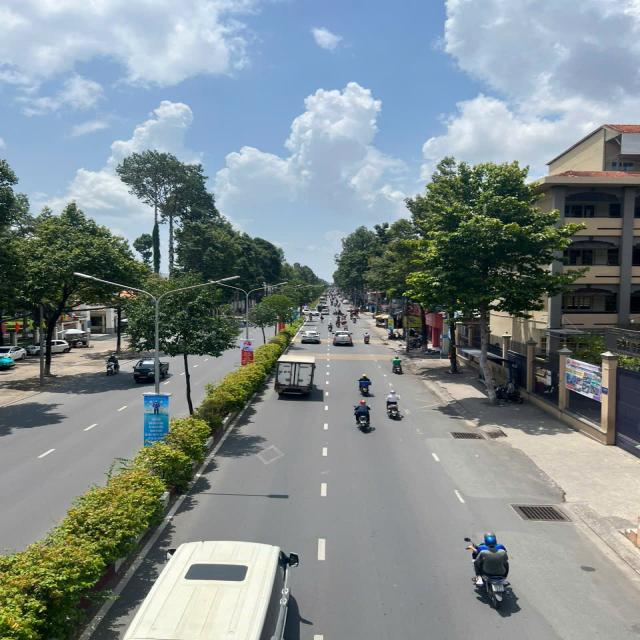Truck: (271, 351, 321, 396)
car: (330, 328, 354, 349), (298, 325, 323, 345), (301, 305, 322, 318)
motobyte: (457, 530, 520, 612), (350, 398, 378, 436), (384, 389, 406, 424), (102, 351, 123, 379), (357, 370, 374, 398), (387, 356, 410, 376), (362, 330, 375, 348), (326, 322, 335, 333)
